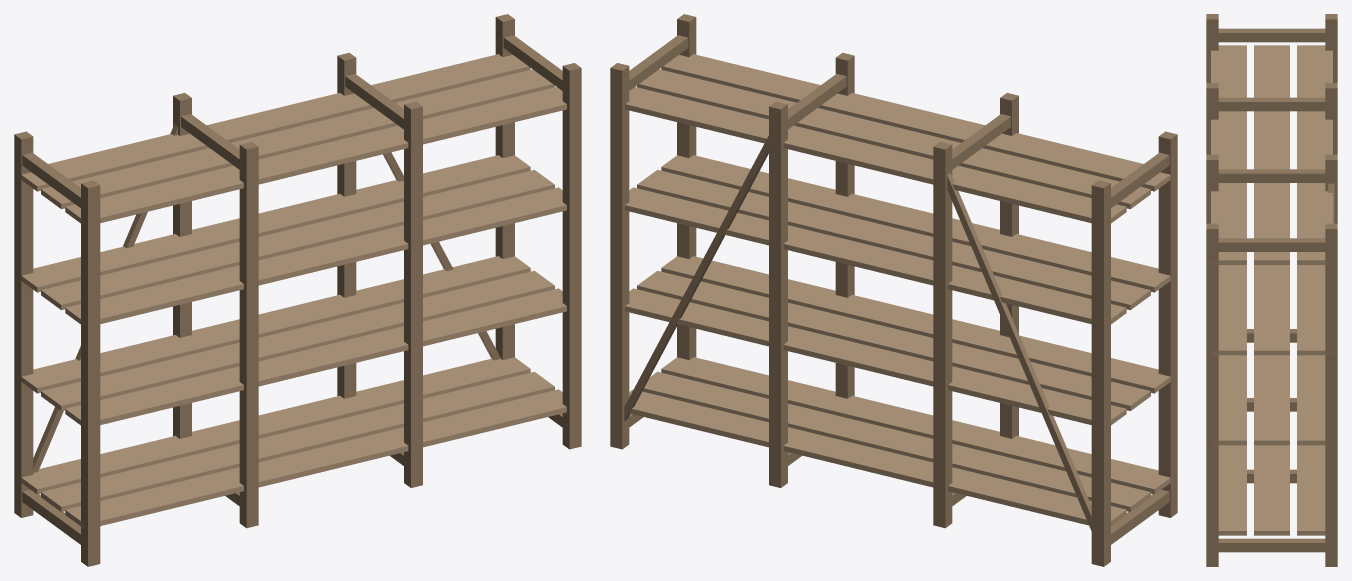
File: dm_woodshelves.glb
3 renders of one model, left to right at view 1: azimuth 30°, elevation 25°; view 2: azimuth 150°, elevation 25°; view 3: azimuth 270°, elevation 25°, orthographic. The views are drawn at different scales.
Visible parts, largest first — view 1: dm_woodshelves; view 2: dm_woodshelves; view 3: dm_woodshelves.
Part boxes in pixels (x1=…): dm_woodshelves: x1=14, y1=14, x2=581, y2=566; dm_woodshelves: x1=610, y1=14, x2=1177, y2=566; dm_woodshelves: x1=1206, y1=14, x2=1337, y2=566.
Size of the model in its own units: 2.45 by 1.8 by 0.635.
